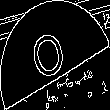O_SE: (32, 23, 78, 87)
